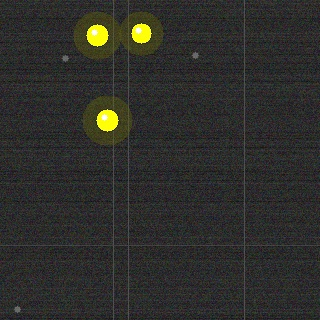yellow_warning: (84, 22, 110, 48), (94, 107, 120, 133), (129, 21, 153, 45)
